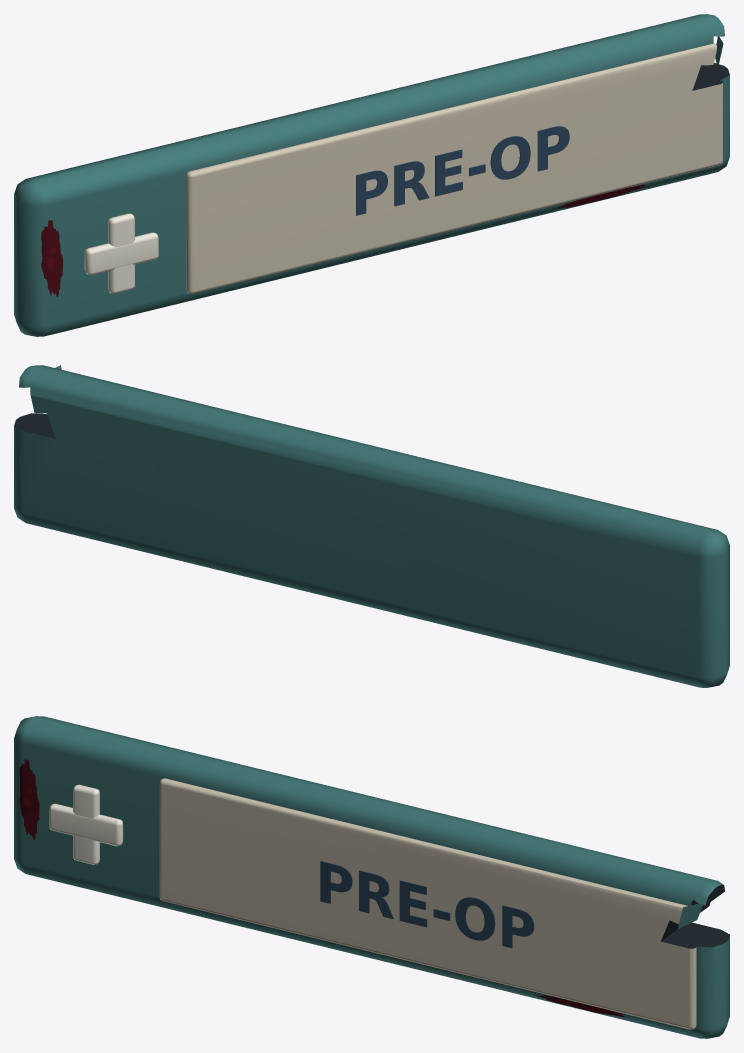
The model's file is clinical_sign_preop.glb.
The picture shows the model from 3 angles, top to bottom: view 1: azimuth 30°, elevation 25°; view 2: azimuth 150°, elevation 25°; view 3: azimuth 330°, elevation 25°; orthographic projection.
Visible parts, largest first — view 1: clinical_sign_preop_Outbreak_Static; view 2: clinical_sign_preop_Outbreak_Static; view 3: clinical_sign_preop_Outbreak_Static.
Boxes of the visible parts, left/top/right/bottom form: clinical_sign_preop_Outbreak_Static: left=14, top=14, right=729, bottom=336; clinical_sign_preop_Outbreak_Static: left=14, top=365, right=729, bottom=687; clinical_sign_preop_Outbreak_Static: left=14, top=716, right=729, bottom=1038.
Bounding box in the file's own units: 1.48 × 0.31 × 0.116.
